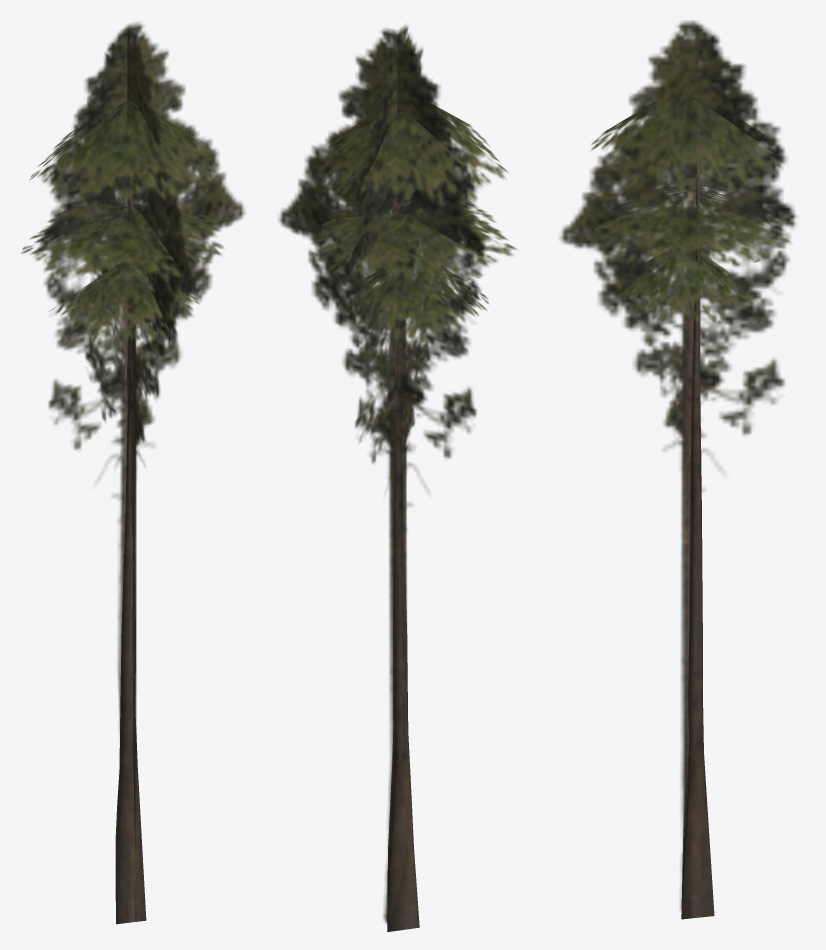
File: forest_tree_5.glb
3 renders of one model, left to right at view 1: azimuth 30°, elevation 25°; view 2: azimuth 150°, elevation 25°; view 3: azimuth 270°, elevation 25°, orthographic.
Parts seen in each view (by area): view 1: Background_Tree_Atlas.005_Background_Tree_Atlas_0; view 2: Background_Tree_Atlas.005_Background_Tree_Atlas_0; view 3: Background_Tree_Atlas.005_Background_Tree_Atlas_0.
Part boxes in pixels (bbox=[...]): Background_Tree_Atlas.005_Background_Tree_Atlas_0: bbox=[21, 22, 245, 924]; Background_Tree_Atlas.005_Background_Tree_Atlas_0: bbox=[278, 25, 516, 931]; Background_Tree_Atlas.005_Background_Tree_Atlas_0: bbox=[559, 20, 796, 919].
Bounding box in the file's own units: 4.43 × 16.63 × 4.28.
Materials: 1 (1 with a texture image).
